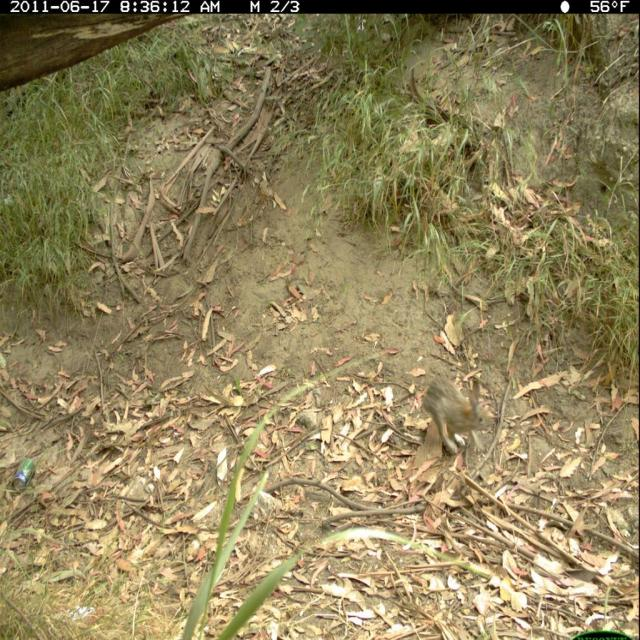rabbit: (425, 361, 499, 460)
